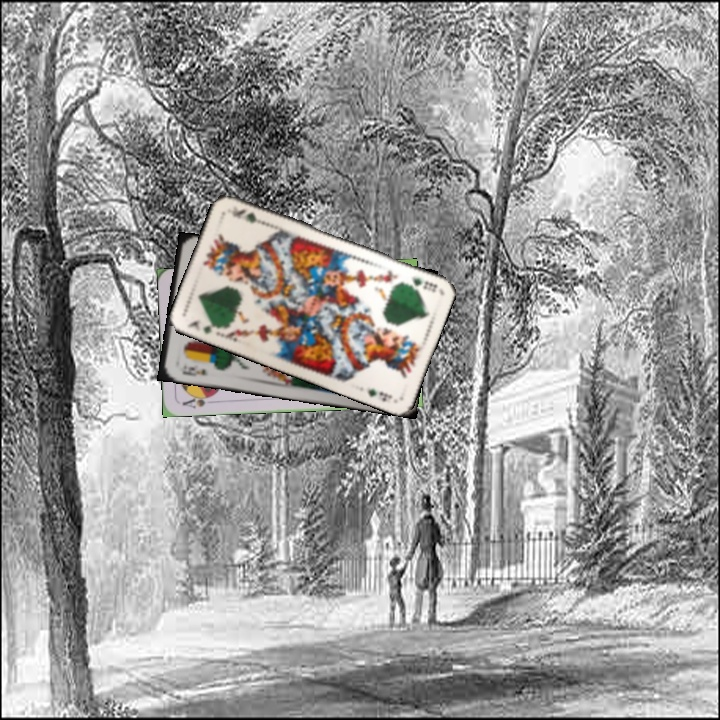EK: (178, 363, 210, 379)
GK: (184, 315, 224, 337), (407, 274, 440, 295)
SA: (178, 391, 217, 411)
